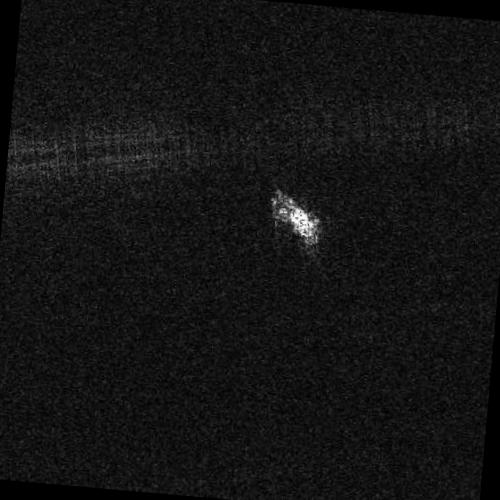ship: (271, 188, 319, 246)
